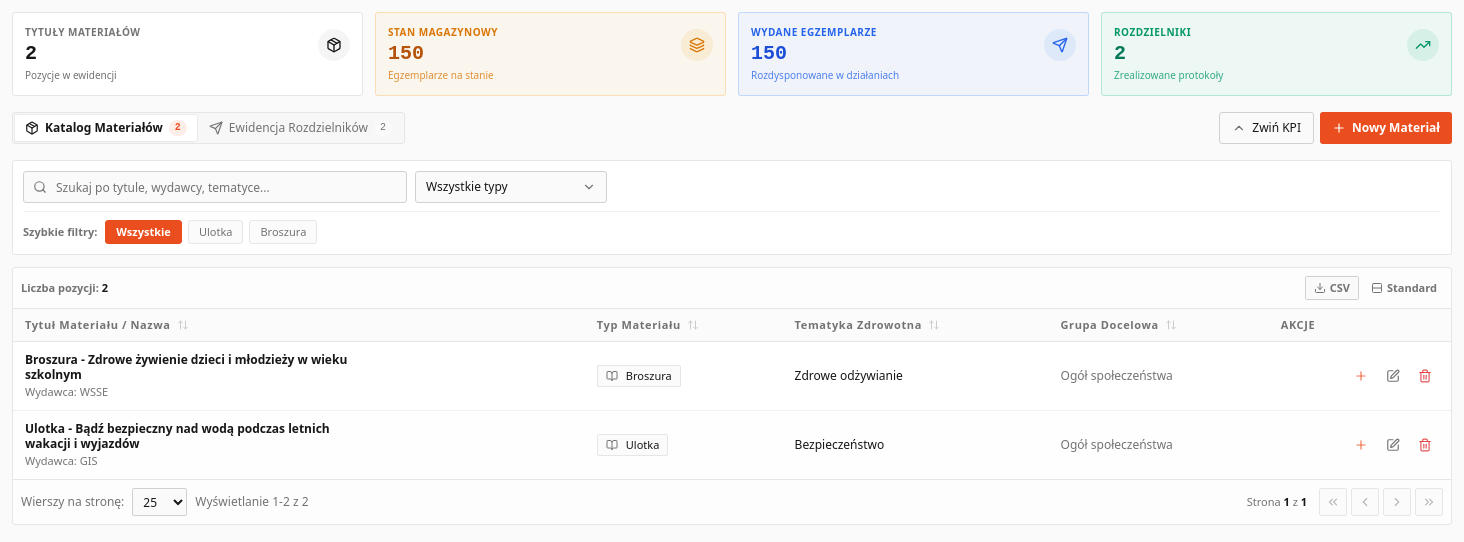
Test: Materials Module Components › MaterialsSection toggles collapsible KPI header and persists in localStorage
expect the text "Tytuły Materiałów" is shown: met, box [25, 25, 140, 39]
Zwijamy KPI
Click the button "Zwiń KPI" at (1267, 128), box [1219, 112, 1314, 144]
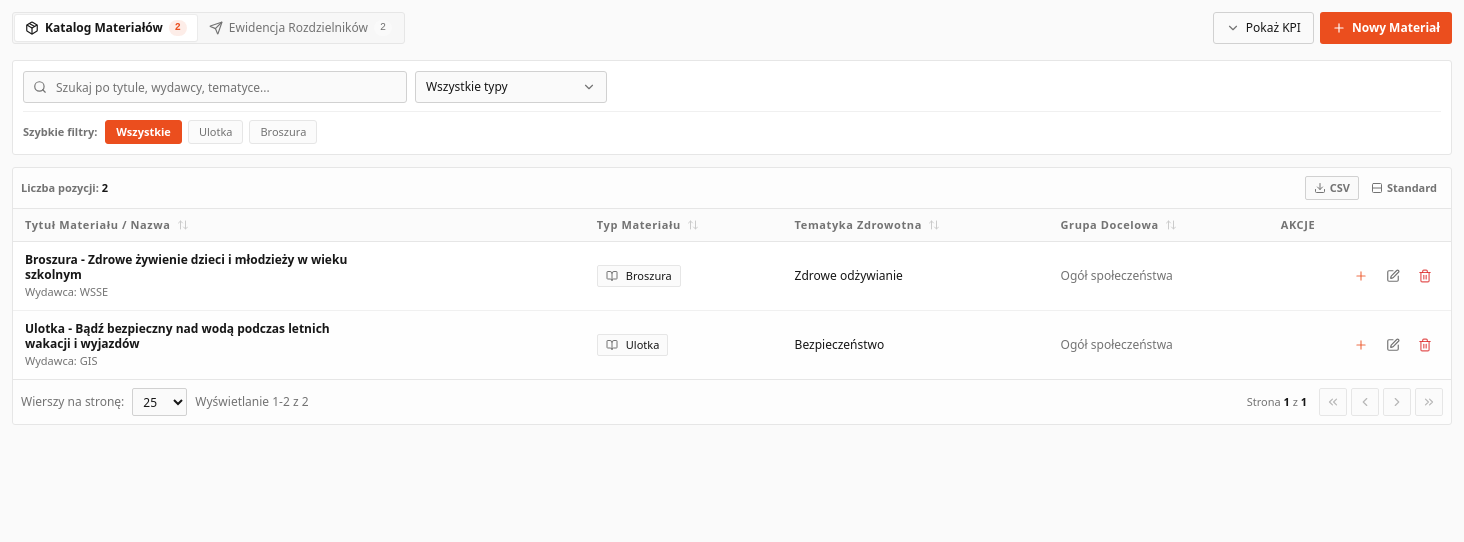
expect the text "Tytuły Materiałów" is gone: met
expect the button "Pokaż KPI" is shown: met
Rozwijamy KPI z powrotem
Click the button "Pokaż KPI" at (1263, 28), box [1213, 12, 1314, 44]
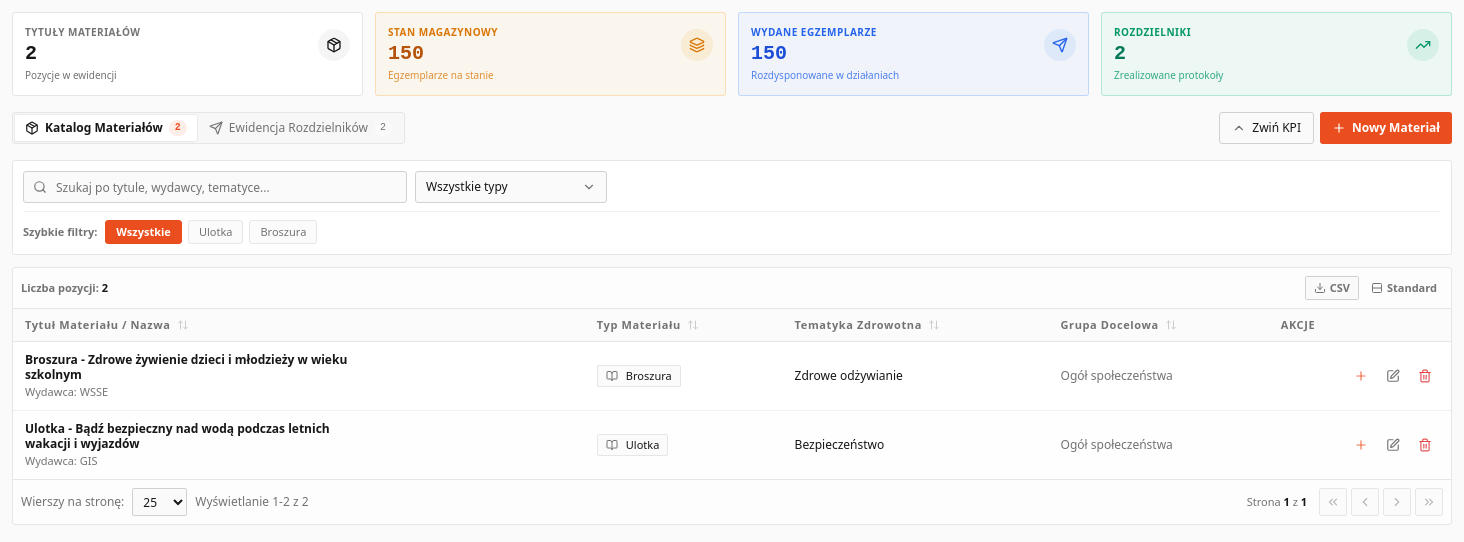
expect the text "Tytuły Materiałów" is shown: met, box [25, 25, 140, 39]
